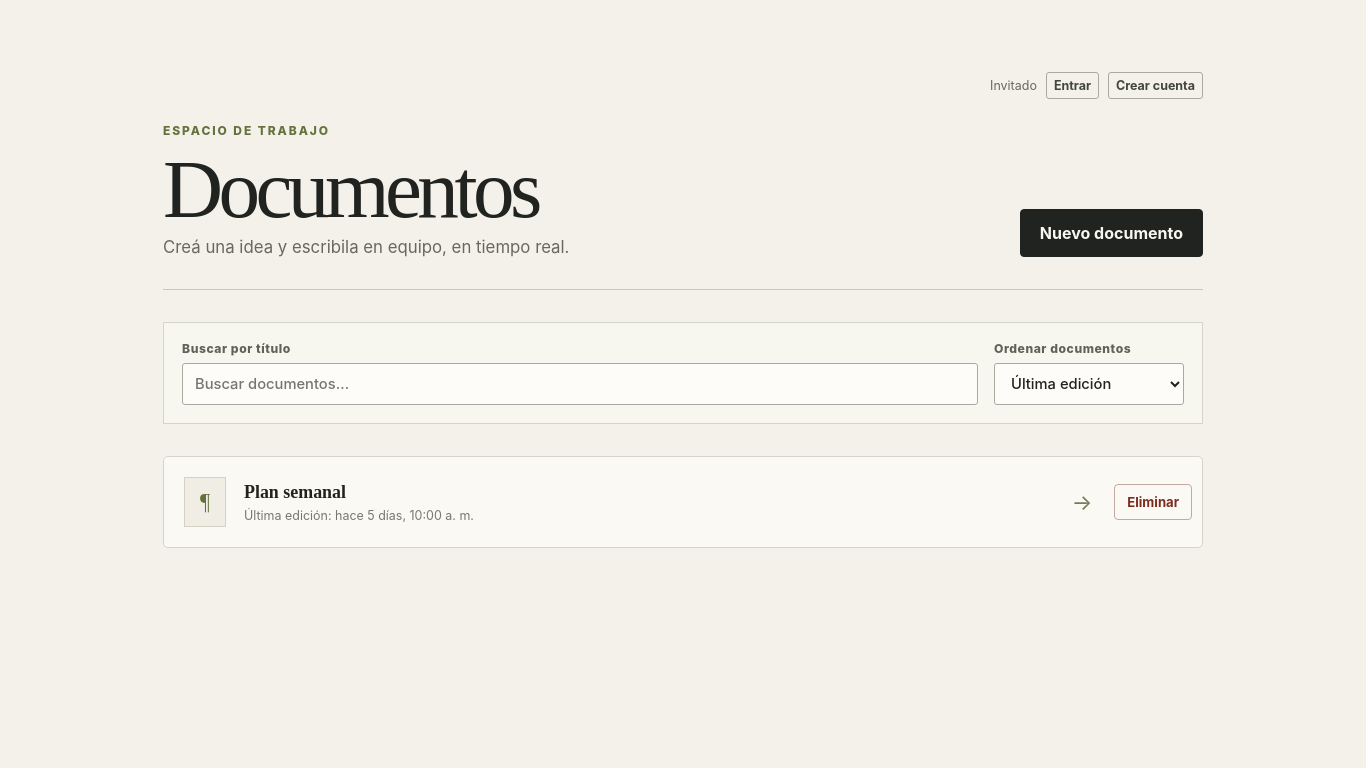
DocumentList › opens an accessible confirmation dialog and cancels without deleting
Click the button with aria-label "eliminar plan semanal": (1153, 502) [1114,484,1192,520]
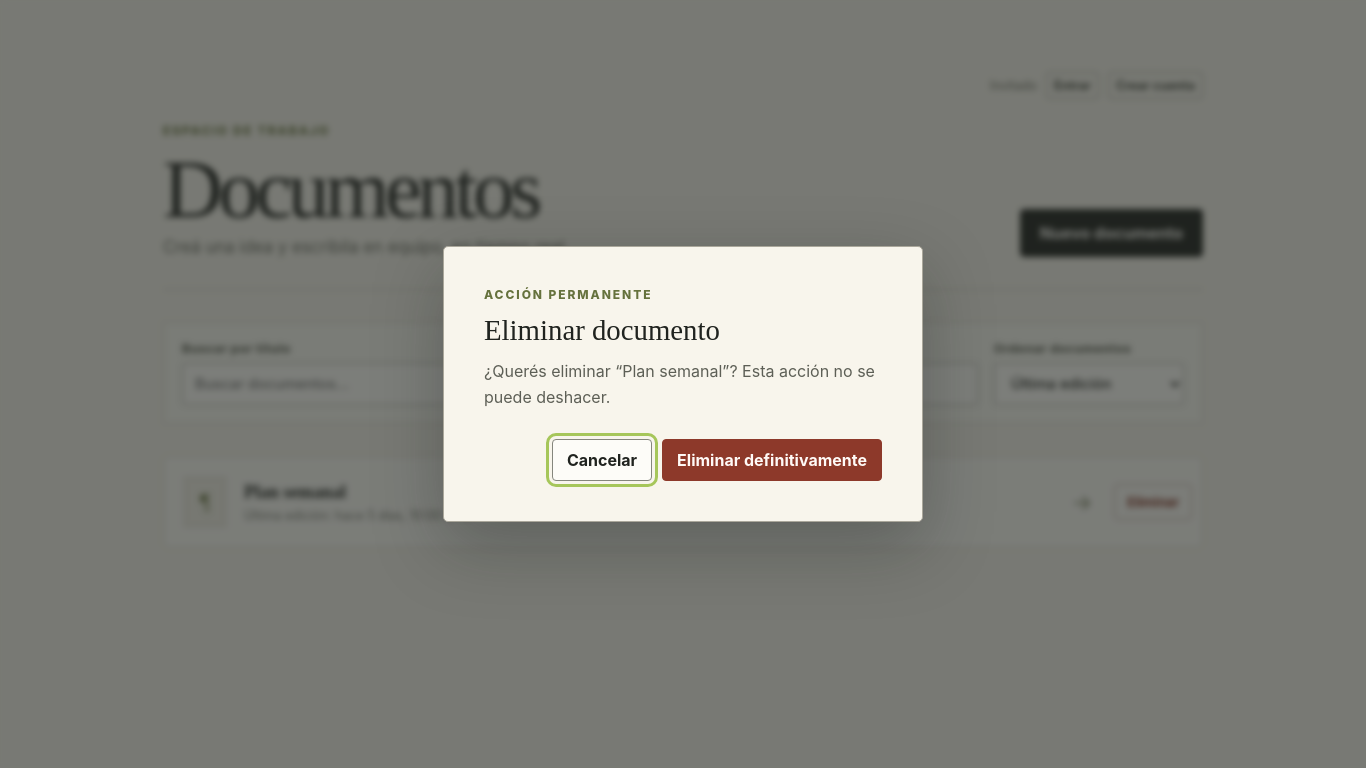
Now the dialog shows "Plan semanal", box [622,361,722,381]
Click the button "Cancelar": (602, 460) [552,439,652,481]
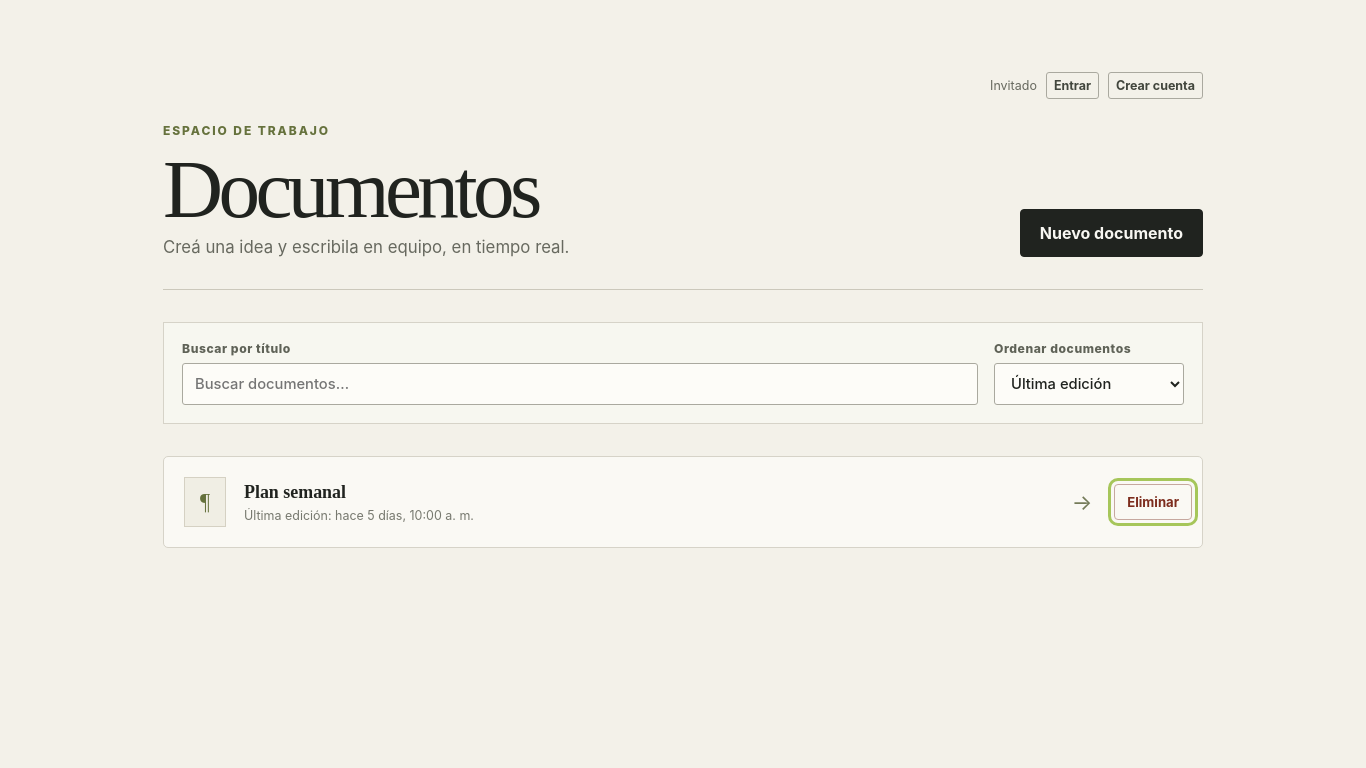
Expected: the text "Plan semanal" is shown, [244,482,346,502]
Now the dialog is gone
